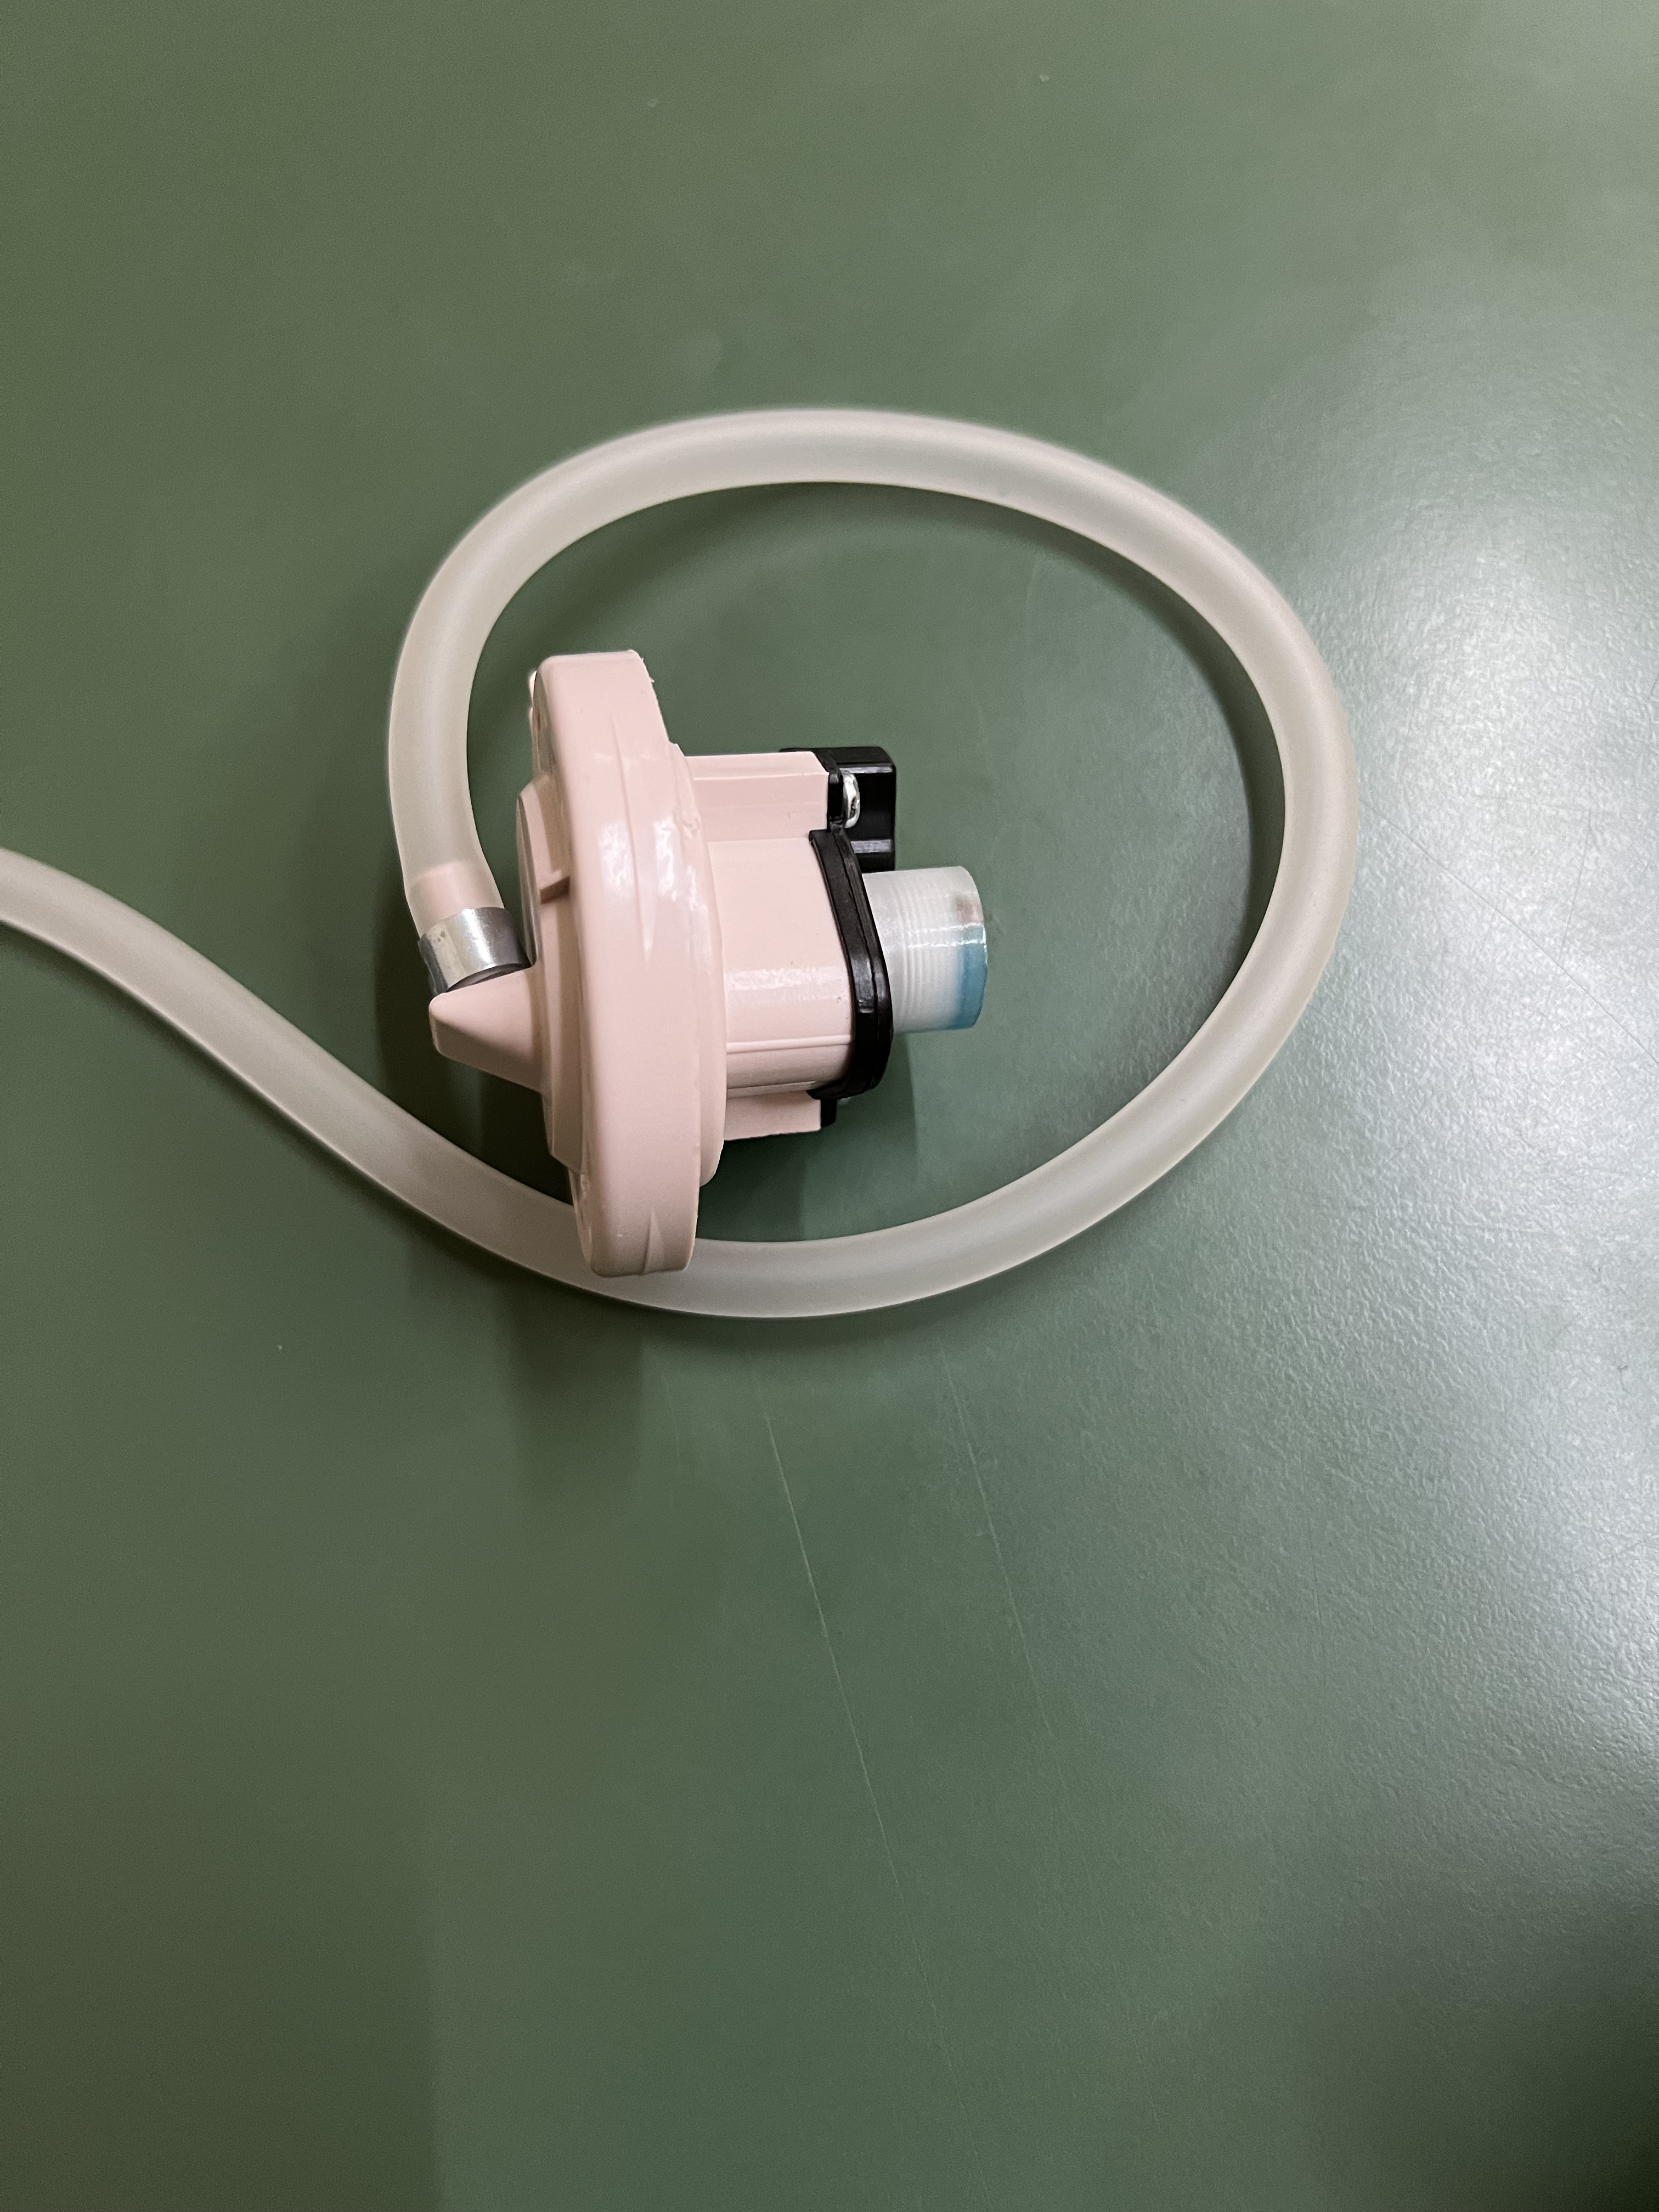pressure_sensor: (366, 347, 1380, 1364)
